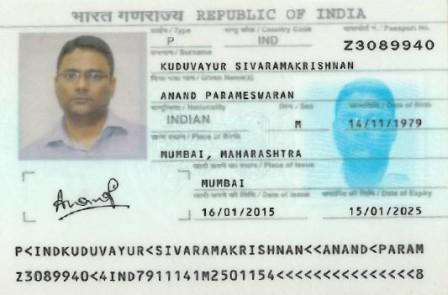DOB: (337, 116, 431, 130)
Surname: (154, 59, 358, 73)
country_code: (252, 33, 285, 48)
date_of_expiry: (331, 202, 428, 220)
date_of_issue: (194, 206, 291, 220)
details: (4, 241, 431, 290)
name: (157, 89, 299, 102)
nationality: (148, 112, 245, 128)
passport_no: (340, 38, 436, 52)
photo: (18, 38, 143, 173)
place_of_birth: (150, 148, 320, 162)
place_of_issue: (194, 177, 260, 191)
sex: (287, 117, 310, 132)
sign: (48, 179, 124, 219)
type: (161, 32, 179, 48)
